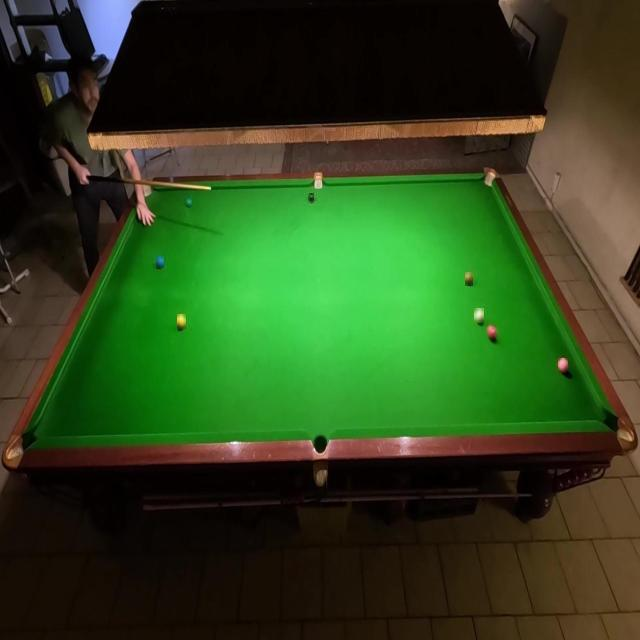Ball: (487, 324, 497, 340), (474, 308, 484, 323), (558, 358, 568, 373), (177, 314, 186, 329), (466, 272, 474, 286), (156, 256, 164, 268), (308, 194, 314, 204), (186, 197, 192, 207)
